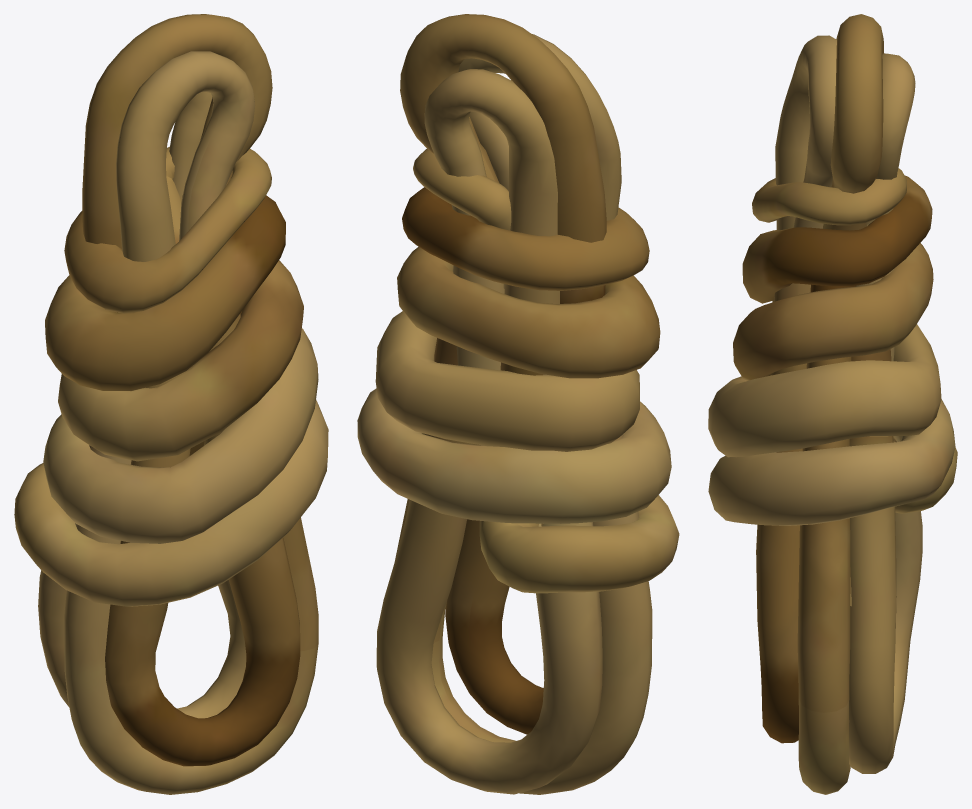
3 views of the same model, side by side, from view 1: azimuth 30°, elevation 25°; view 2: azimuth 150°, elevation 25°; view 3: azimuth 270°, elevation 25° (orthographic). The views are drawn at different scales.
Parts seen in each view (by area): view 1: SM_Rope_0; view 2: SM_Rope_0; view 3: SM_Rope_0.
Boxes of the visible parts, left/top/right/bottom form: SM_Rope_0: left=14, top=14, right=328, bottom=794; SM_Rope_0: left=357, top=14, right=679, bottom=794; SM_Rope_0: left=708, top=14, right=957, bottom=794.
Bounding box in the file's own units: 0.2917 × 0.7513 × 0.2249.
